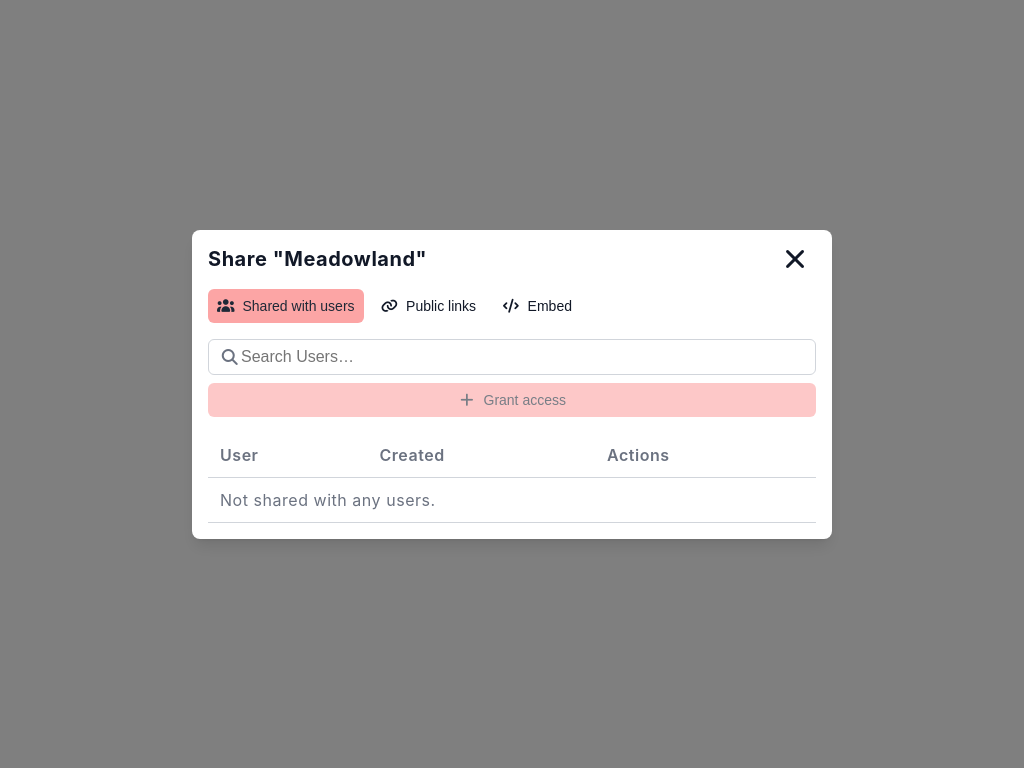
it: ShareDialog › surfaces a URL creation error
The image size is (1024, 768).
Step 1. Click the button "Public links" → (428, 306), box top-left (372, 288), bottom-right (485, 322)
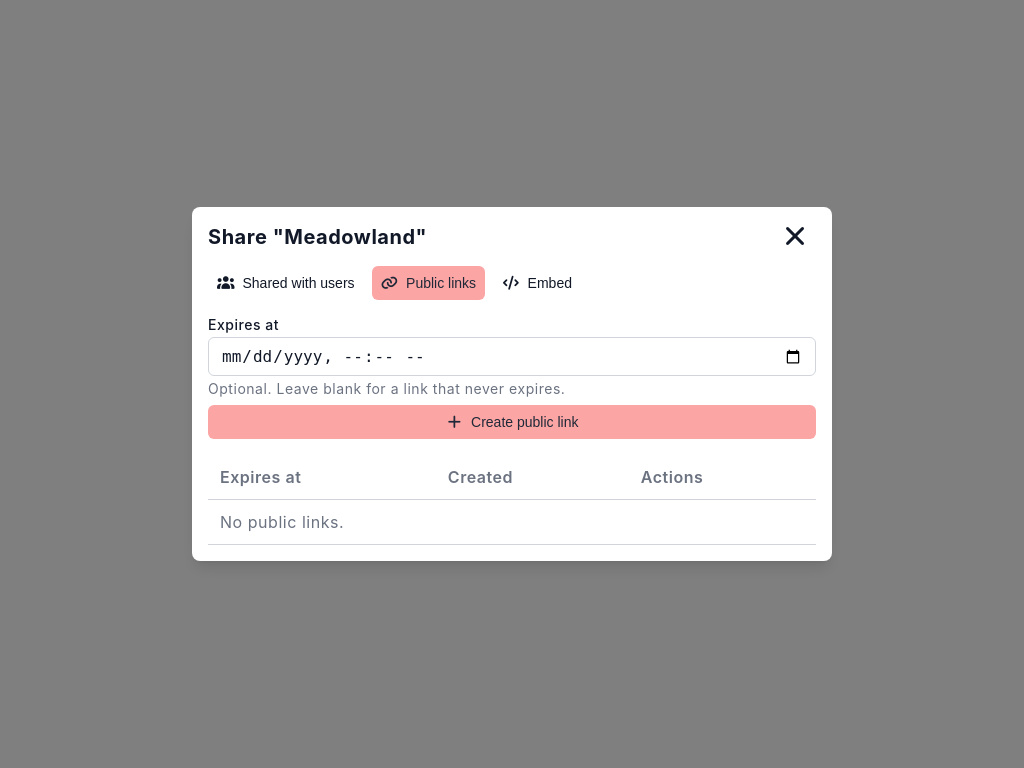
Step 2. Click the button "Create public link" → (512, 422), box top-left (208, 405), bottom-right (816, 439)
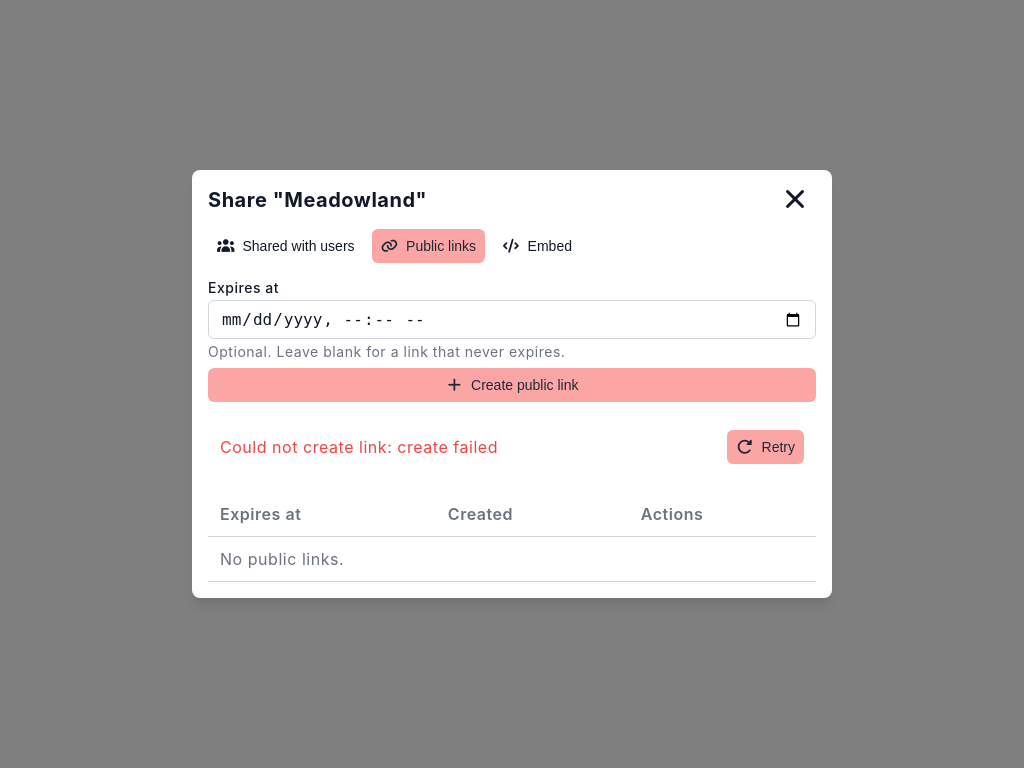
Now the text "create failed" is shown, box top-left (220, 437), bottom-right (498, 457)
